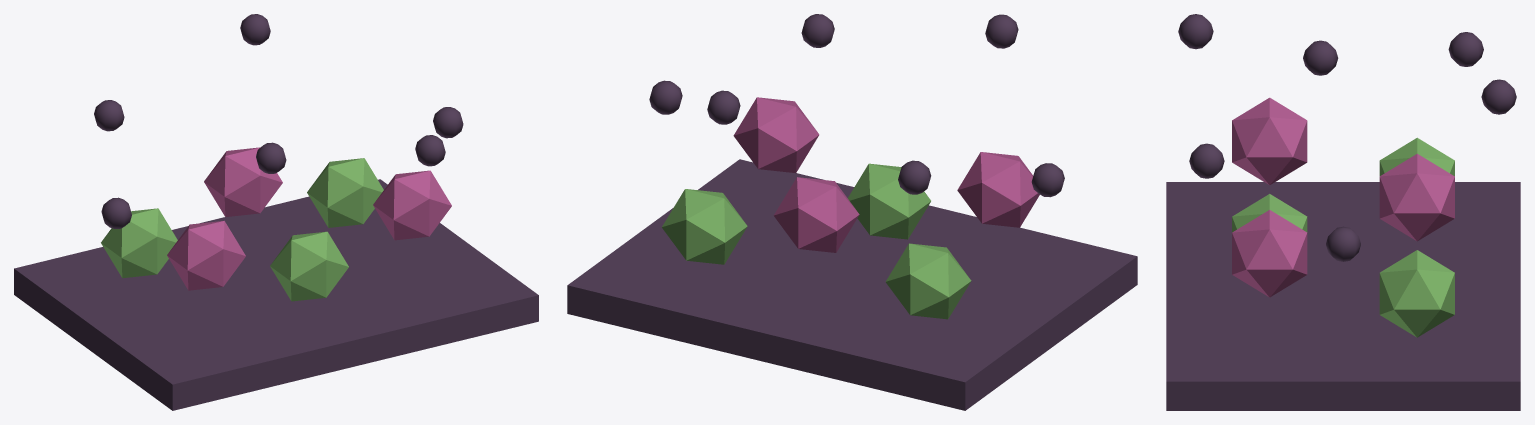
File: pollinator_orchard.glb
The picture shows the model from 3 angles, left to right: view 1: azimuth 30°, elevation 25°; view 2: azimuth 150°, elevation 25°; view 3: azimuth 270°, elevation 25°; orthographic projection. The views are drawn at different scales.
Visible parts, largest first — view 1: habitat_base, flower_4, flower_3, flower_5, flower_2, flower_0, flower_1, pollinator_4, pollinator_5, pollinator_0, pollinator_1, pollinator_2 (+1 smaller); view 2: habitat_base, flower_0, flower_5, flower_1, flower_2, flower_3, flower_4, pollinator_2, pollinator_5, pollinator_0, pollinator_3, pollinator_1 (+1 smaller); view 3: habitat_base, flower_1, flower_5, flower_2, flower_3, flower_0, flower_4, pollinator_2, pollinator_1, pollinator_3, pollinator_5, pollinator_0 (+1 smaller).
Boxes of the visible parts, bbox=[...] form: habitat_base: bbox=[14, 179, 538, 410]; flower_4: bbox=[270, 231, 348, 301]; flower_3: bbox=[167, 220, 245, 290]; flower_5: bbox=[373, 170, 451, 240]; flower_2: bbox=[307, 158, 383, 227]; flower_0: bbox=[101, 208, 177, 278]; flower_1: bbox=[204, 147, 282, 216]; pollinator_4: bbox=[94, 100, 124, 131]; pollinator_5: bbox=[240, 14, 270, 45]; pollinator_0: bbox=[433, 107, 463, 138]; pollinator_1: bbox=[415, 135, 445, 166]; pollinator_2: bbox=[256, 142, 286, 173]; habitat_base: bbox=[567, 159, 1137, 410]; flower_0: bbox=[885, 243, 971, 319]; flower_5: bbox=[733, 97, 819, 173]; flower_1: bbox=[773, 177, 859, 252]; flower_2: bbox=[661, 189, 747, 264]; flower_3: bbox=[957, 152, 1039, 227]; flower_4: bbox=[847, 163, 930, 239]; pollinator_2: bbox=[985, 14, 1018, 48]; pollinator_5: bbox=[707, 90, 740, 124]; pollinator_0: bbox=[649, 80, 682, 114]; pollinator_3: bbox=[1031, 163, 1064, 197]; pollinator_1: bbox=[801, 14, 834, 47]; habitat_base: bbox=[1166, 182, 1520, 410]; flower_1: bbox=[1379, 153, 1454, 241]; flower_5: bbox=[1232, 210, 1307, 297]; flower_2: bbox=[1379, 250, 1454, 337]; flower_3: bbox=[1232, 97, 1307, 185]; flower_0: bbox=[1379, 137, 1454, 176]; flower_4: bbox=[1232, 194, 1307, 232]; pollinator_2: bbox=[1178, 14, 1213, 49]; pollinator_1: bbox=[1189, 143, 1224, 178]; pollinator_3: bbox=[1303, 40, 1338, 75]; pollinator_5: bbox=[1481, 79, 1516, 114]; pollinator_0: bbox=[1326, 226, 1360, 261].
Size of what is drawn, in the model's own units: 3.22 by 1.92 by 2.4.
